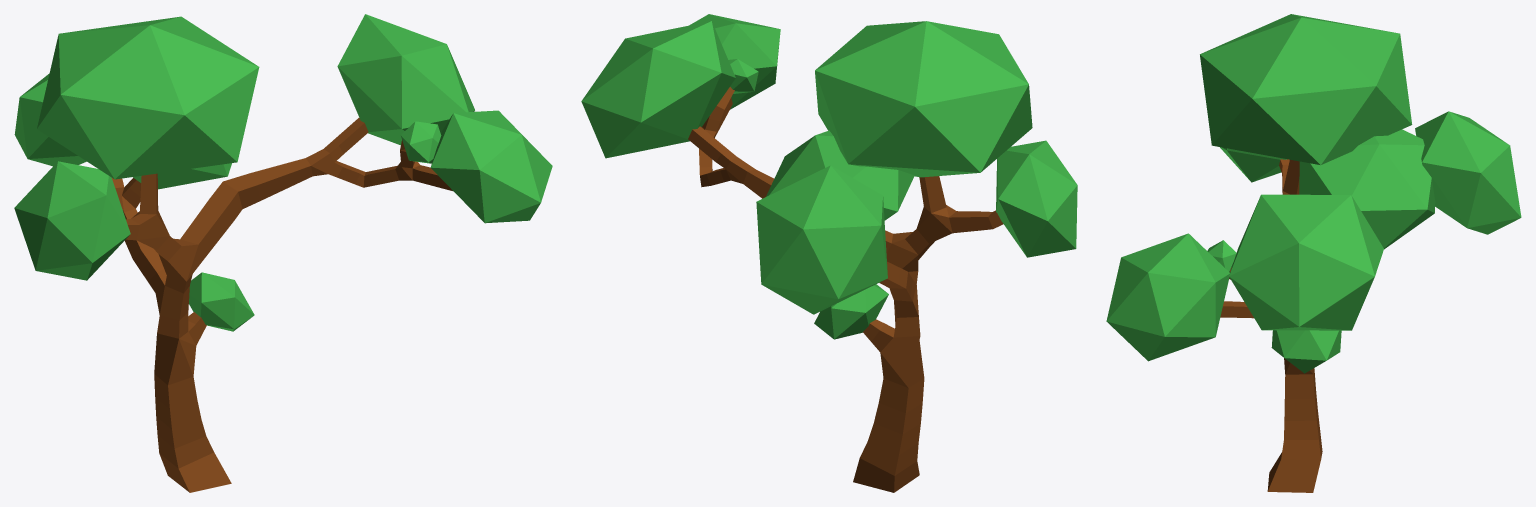
The model's file is tree.fbx.
The picture shows the model from 3 angles, left to right: view 1: azimuth 30°, elevation 25°; view 2: azimuth 150°, elevation 25°; view 3: azimuth 270°, elevation 25°; orthographic projection. The views are drawn at different scales.
Parts seen in each view (by area): view 1: tree; view 2: tree; view 3: tree.
Part boxes in pixels (bbox=[...]): tree: bbox=[14, 14, 552, 492]; tree: bbox=[581, 14, 1077, 492]; tree: bbox=[1106, 14, 1521, 492].
Size of the model in its own units: 1108 by 1058 by 895.
